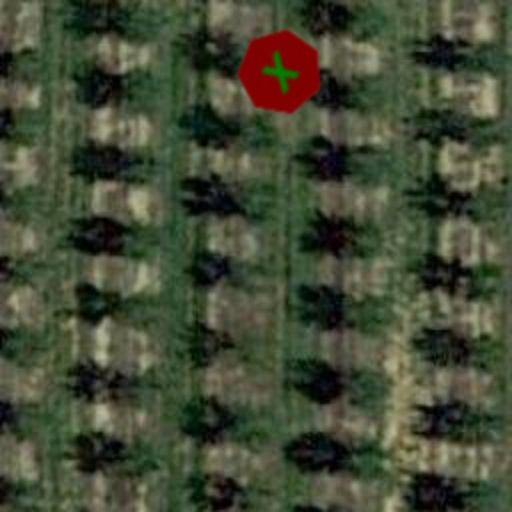heptagon: (218, 10, 342, 134)
